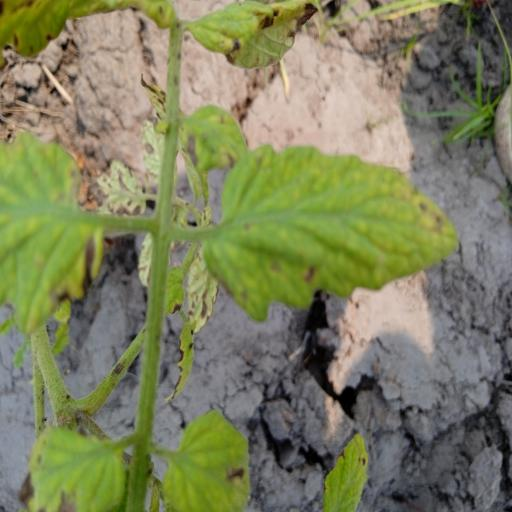Tomato_Brown_Spots: (201, 137, 466, 328), (0, 125, 97, 335), (160, 404, 256, 512), (25, 422, 132, 512)
